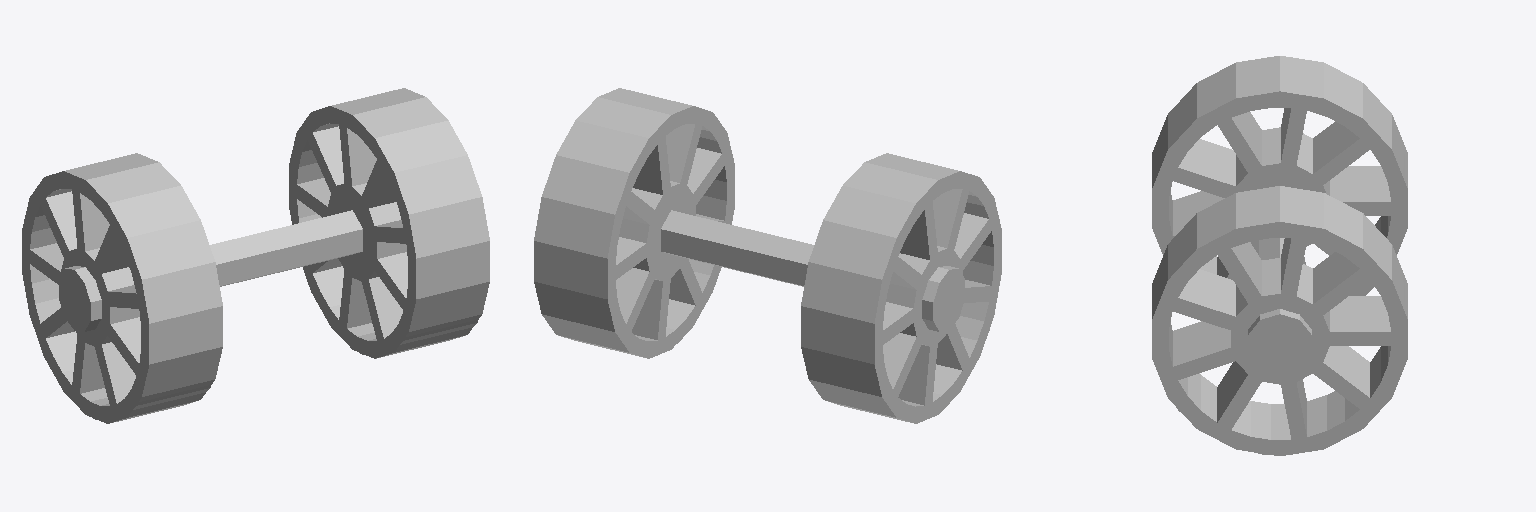
The model's file is end-effector-back-rollers.obj.
3 renders of one model, left to right at view 1: azimuth 30°, elevation 25°; view 2: azimuth 150°, elevation 25°; view 3: azimuth 270°, elevation 25°, orthographic.
Parts seen in each view (by area): view 1: mesh97, mesh85, mesh135, mesh63, mesh64, mesh136, mesh1, mesh2, mesh62, mesh134, mesh137, mesh65 (+21 smaller); view 2: mesh97, mesh85, mesh142, mesh70, mesh69, mesh141, mesh4, mesh3, mesh71, mesh143, mesh140, mesh68 (+25 smaller); view 3: mesh176, mesh6, mesh178, mesh114, mesh34, mesh173, mesh17, mesh170, mesh138, mesh139, mesh66, mesh67 (+26 smaller).
Boxes of the visible parts, x1=… form: mesh97: x1=289, y1=106, x2=415, y2=358; mesh85: x1=22, y1=171, x2=148, y2=423; mesh135: x1=409, y1=197, x2=489, y2=258; mesh63: x1=142, y1=262, x2=222, y2=323; mesh64: x1=127, y1=220, x2=214, y2=279; mesh136: x1=395, y1=155, x2=481, y2=214; mesh1: x1=216, y1=229, x2=362, y2=285; mesh2: x1=210, y1=210, x2=362, y2=264; mesh62: x1=149, y1=306, x2=222, y2=364; mesh134: x1=416, y1=241, x2=489, y2=298; mesh137: x1=375, y1=120, x2=467, y2=172; mesh65: x1=108, y1=186, x2=200, y2=237; mesh97: x1=608, y1=106, x2=734, y2=358; mesh85: x1=875, y1=171, x2=1001, y2=423; mesh142: x1=534, y1=197, x2=614, y2=258; mesh70: x1=801, y1=262, x2=881, y2=323; mesh69: x1=809, y1=220, x2=896, y2=279; mesh141: x1=542, y1=155, x2=628, y2=214; mesh4: x1=661, y1=229, x2=807, y2=285; mesh3: x1=661, y1=210, x2=813, y2=264; mesh71: x1=801, y1=306, x2=874, y2=364; mesh143: x1=534, y1=241, x2=607, y2=298; mesh140: x1=556, y1=120, x2=648, y2=172; mesh68: x1=823, y1=186, x2=915, y2=237; mesh176: x1=1152, y1=222, x2=1407, y2=455; mesh6: x1=1152, y1=91, x2=1407, y2=295; mesh178: x1=1248, y1=314, x2=1311, y2=374; mesh114: x1=1330, y1=296, x2=1390, y2=331; mesh34: x1=1330, y1=166, x2=1390, y2=201; mesh173: x1=1173, y1=321, x2=1230, y2=366; mesh17: x1=1178, y1=139, x2=1235, y2=185; mesh170: x1=1178, y1=269, x2=1235, y2=316; mesh138: x1=1236, y1=186, x2=1279, y2=228; mesh139: x1=1280, y1=186, x2=1323, y2=228; mesh66: x1=1236, y1=56, x2=1279, y2=97; mesh67: x1=1280, y1=56, x2=1323, y2=97.
Bounding box in the file's own units: 0.1251 × 0.0774 × 0.0762.